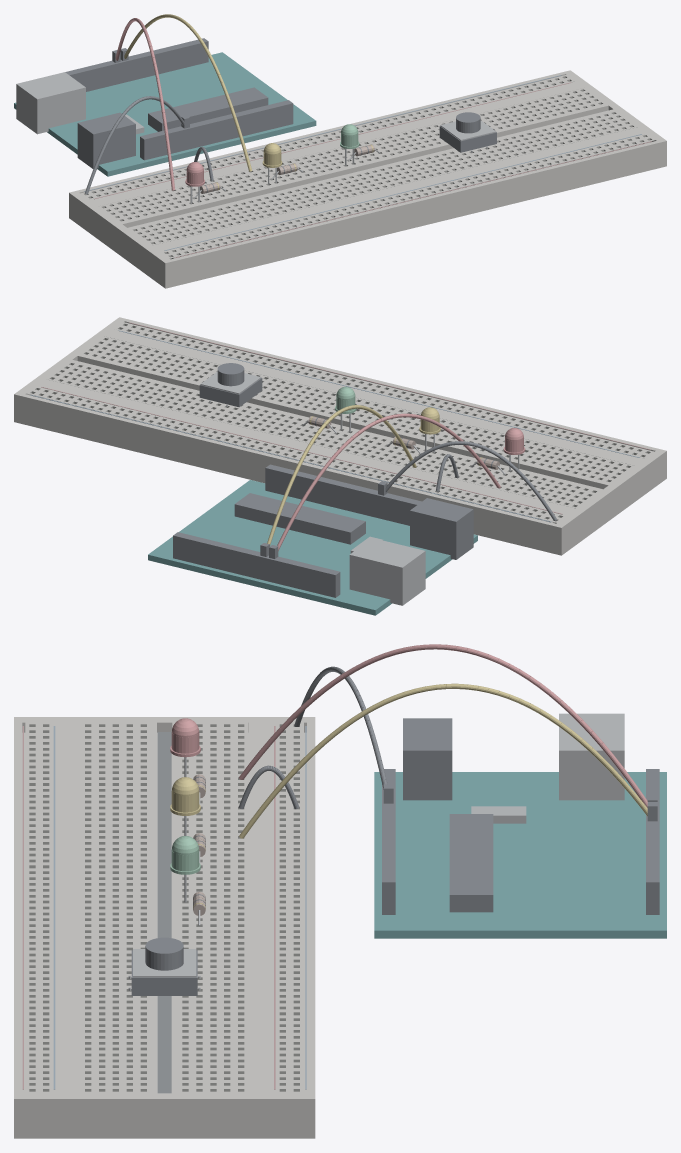
File: step-13.glb
3 renders of one model, top to bottom at view 1: azimuth 30°, elevation 25°; view 2: azimuth 150°, elevation 25°; view 3: azimuth 270°, elevation 25°, orthographic. The views are drawn at different scales.
Parts seen in each view (by area): view 1: breadboard__mesh, uno__mesh, button__mesh, wire_yellow_signal__mesh, wire_red_signal__mesh, wire_ground__mesh, led_red__mesh, led_green__mesh, led_yellow__mesh; view 2: breadboard__mesh, uno__mesh, button__mesh, wire_red_signal__mesh, wire_yellow_signal__mesh, wire_ground__mesh, led_red__mesh, led_green__mesh, led_yellow__mesh; view 3: breadboard__mesh, uno__mesh, button__mesh, wire_yellow_signal__mesh, wire_red_signal__mesh, wire_ground__mesh, led_green__mesh, led_red__mesh, led_yellow__mesh.
Boxes of the visible parts, x1=… form: breadboard__mesh: x1=69, y1=70, x2=666, y2=288; uno__mesh: x1=14, y1=38, x2=316, y2=176; button__mesh: x1=439, y1=112, x2=496, y2=152; wire_yellow_signal__mesh: x1=120, y1=14, x2=252, y2=171; wire_red_signal__mesh: x1=112, y1=18, x2=175, y2=190; wire_ground__mesh: x1=85, y1=96, x2=189, y2=194; led_red__mesh: x1=185, y1=162, x2=204, y2=203; led_green__mesh: x1=340, y1=124, x2=359, y2=165; led_yellow__mesh: x1=262, y1=143, x2=282, y2=184; breadboard__mesh: x1=14, y1=317, x2=666, y2=555; uno__mesh: x1=148, y1=464, x2=477, y2=615; button__mesh: x1=199, y1=363, x2=262, y2=407; wire_red_signal__mesh: x1=269, y1=413, x2=500, y2=558; wire_yellow_signal__mesh: x1=260, y1=405, x2=416, y2=556; wire_ground__mesh: x1=378, y1=441, x2=556, y2=520; led_red__mesh: x1=503, y1=428, x2=525, y2=471; led_green__mesh: x1=335, y1=386, x2=356, y2=432; led_yellow__mesh: x1=419, y1=407, x2=440, y2=452; breadboard__mesh: x1=14, y1=717, x2=315, y2=1138; uno__mesh: x1=374, y1=713, x2=666, y2=938; button__mesh: x1=128, y1=937, x2=200, y2=995; wire_yellow_signal__mesh: x1=239, y1=683, x2=657, y2=838; wire_red_signal__mesh: x1=239, y1=644, x2=657, y2=807; wire_ground__mesh: x1=294, y1=666, x2=393, y2=803; led_green__mesh: x1=170, y1=836, x2=200, y2=902; led_red__mesh: x1=170, y1=718, x2=200, y2=776; led_yellow__mesh: x1=170, y1=777, x2=200, y2=835.
Bounding box in the file's own units: 0.165 × 0.0407 × 0.1192.
